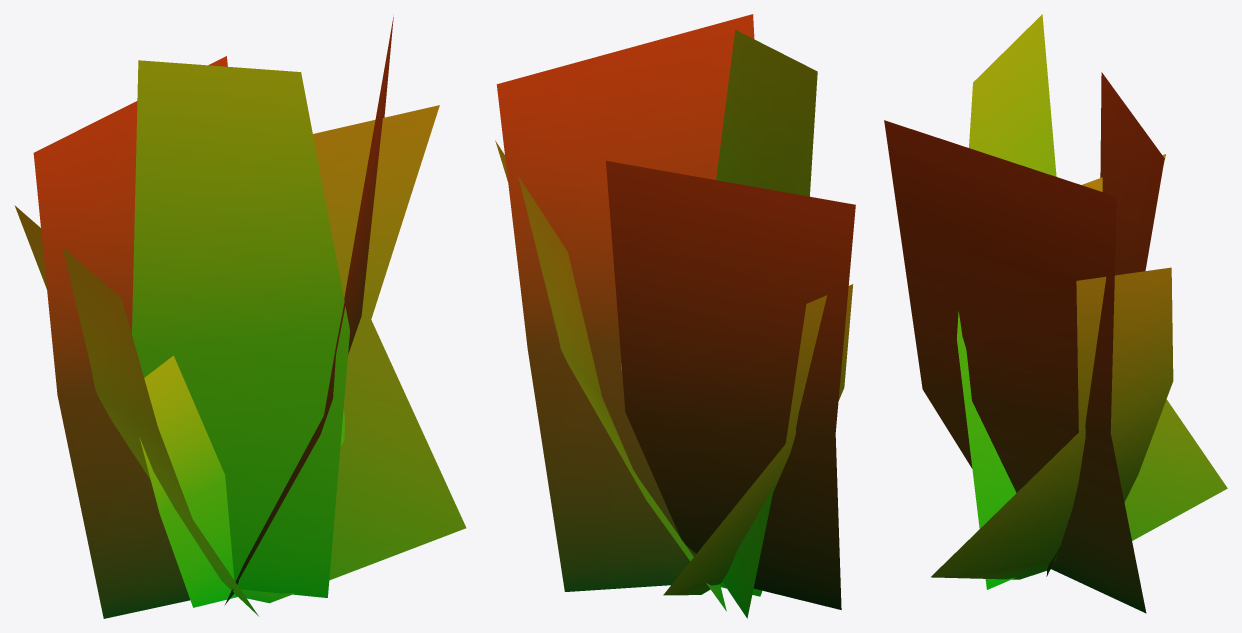
The model's file is Seaweed_LOD1_Var8_sdpjN.fbx.
3 renders of one model, left to right at view 1: azimuth 30°, elevation 25°; view 2: azimuth 150°, elevation 25°; view 3: azimuth 270°, elevation 25°, orthographic. The views are drawn at different scales.
Parts seen in each view (by area): view 1: _88f4_Var8_LOD1; view 2: _88f4_Var8_LOD1; view 3: _88f4_Var8_LOD1.
Boxes of the visible parts, x1,y1,x2,y2 form: _88f4_Var8_LOD1: (14, 17, 466, 618); _88f4_Var8_LOD1: (495, 14, 855, 618); _88f4_Var8_LOD1: (884, 14, 1227, 613).
Bounding box in the file's own units: 13.09 × 17.95 × 10.88.
